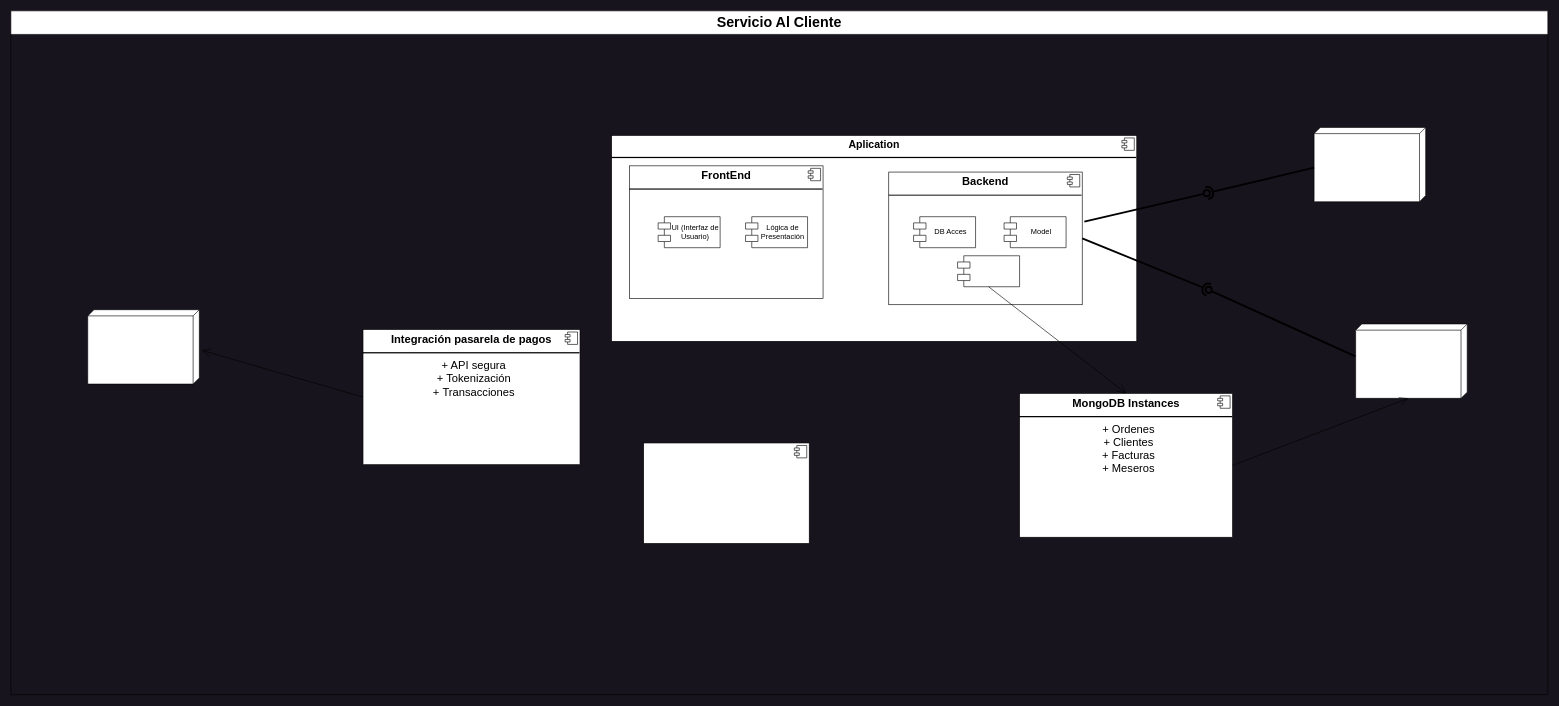
Image size: 1559x706. Some labels were removed from this diagram. The shapes that lost their labels are listed below. From the top down, each one's centre as x and y in pixels, then its label:
At pixel 1369 164: "Cocina".
At pixel 988 271: "Lógica de Negocio".
At pixel 143 346: "DATAFONO".
At pixel 1411 360: "Inventario".
At pixel 726 492: "Servicio de correo electrónico + Envío de facturas + Notificaciones".
